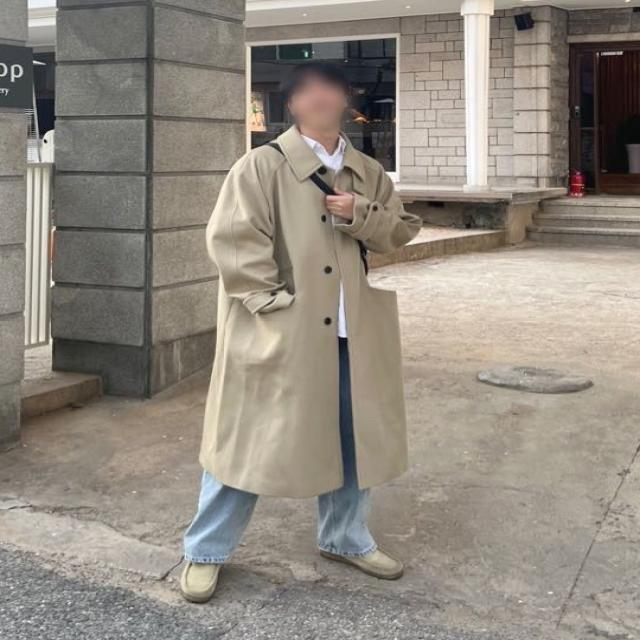coat: (199, 124, 420, 501)
denimpants: (182, 330, 378, 564)
